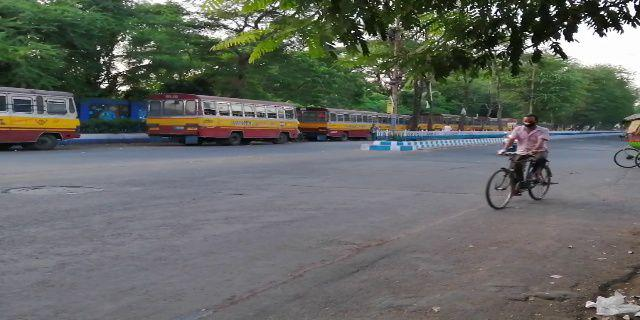Bus: (143, 89, 303, 152), (1, 84, 86, 153), (307, 103, 374, 146)
Cycle: (476, 110, 559, 209)
